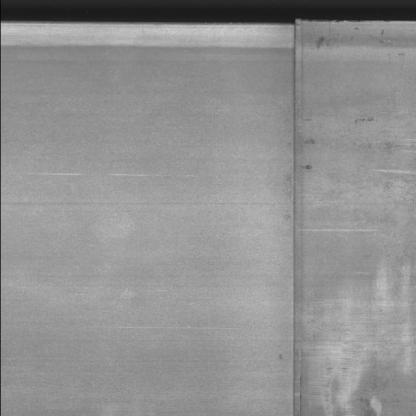welding_line: (273, 12, 317, 415)
